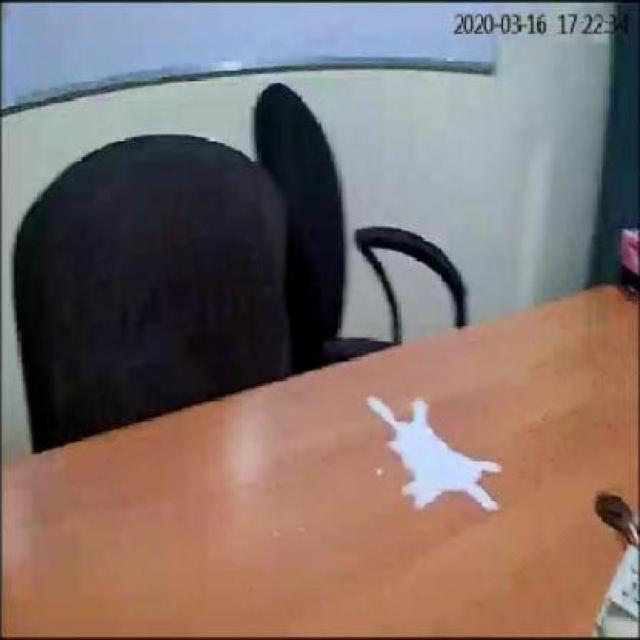spillage: (364, 395, 502, 513)
